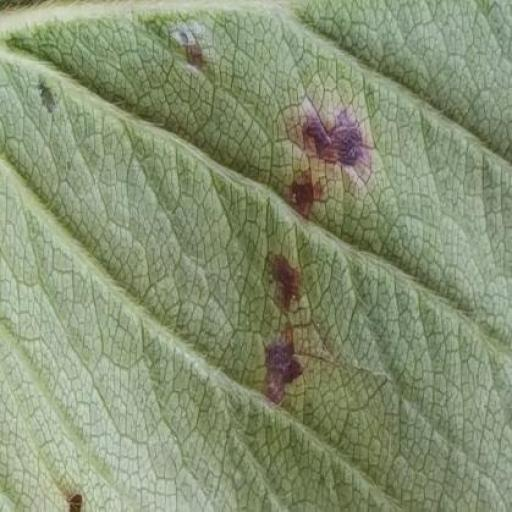Angular Leafspot: (28, 17, 394, 421)
